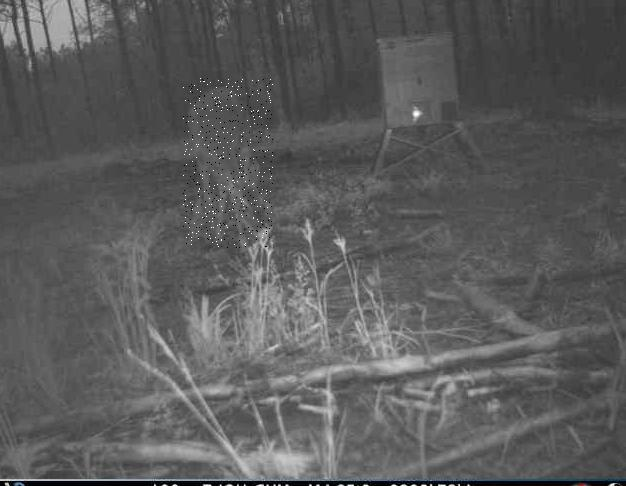Deer: (182, 78, 272, 248)
